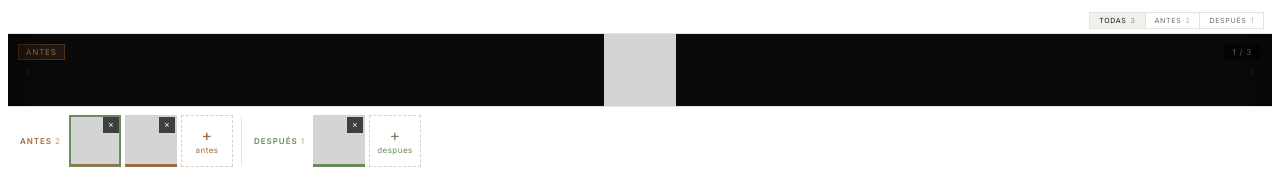
Test: PhotoGallery · orden de las fotos › deja las dos flechas apagadas cuando la foto está sola en su grupo
The width and height of the screenshot is (1280, 184).
Hover over the 3rd element showing "×" at {"x": 339, "y": 141}, box [313, 115, 365, 167]
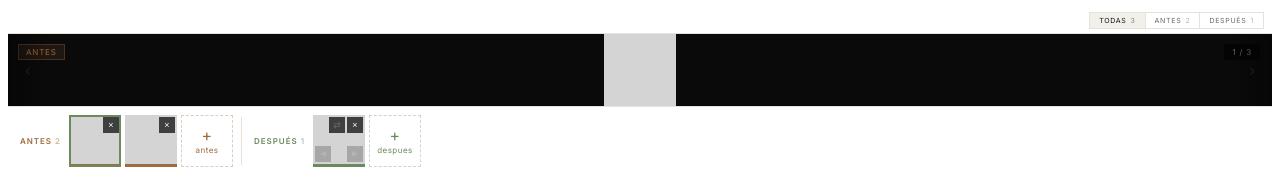
Now the button titled "Mover a la izquierda" is disabled, box [315, 146, 331, 162]
Now the button titled "Mover a la derecha" is disabled, box [347, 146, 363, 162]
